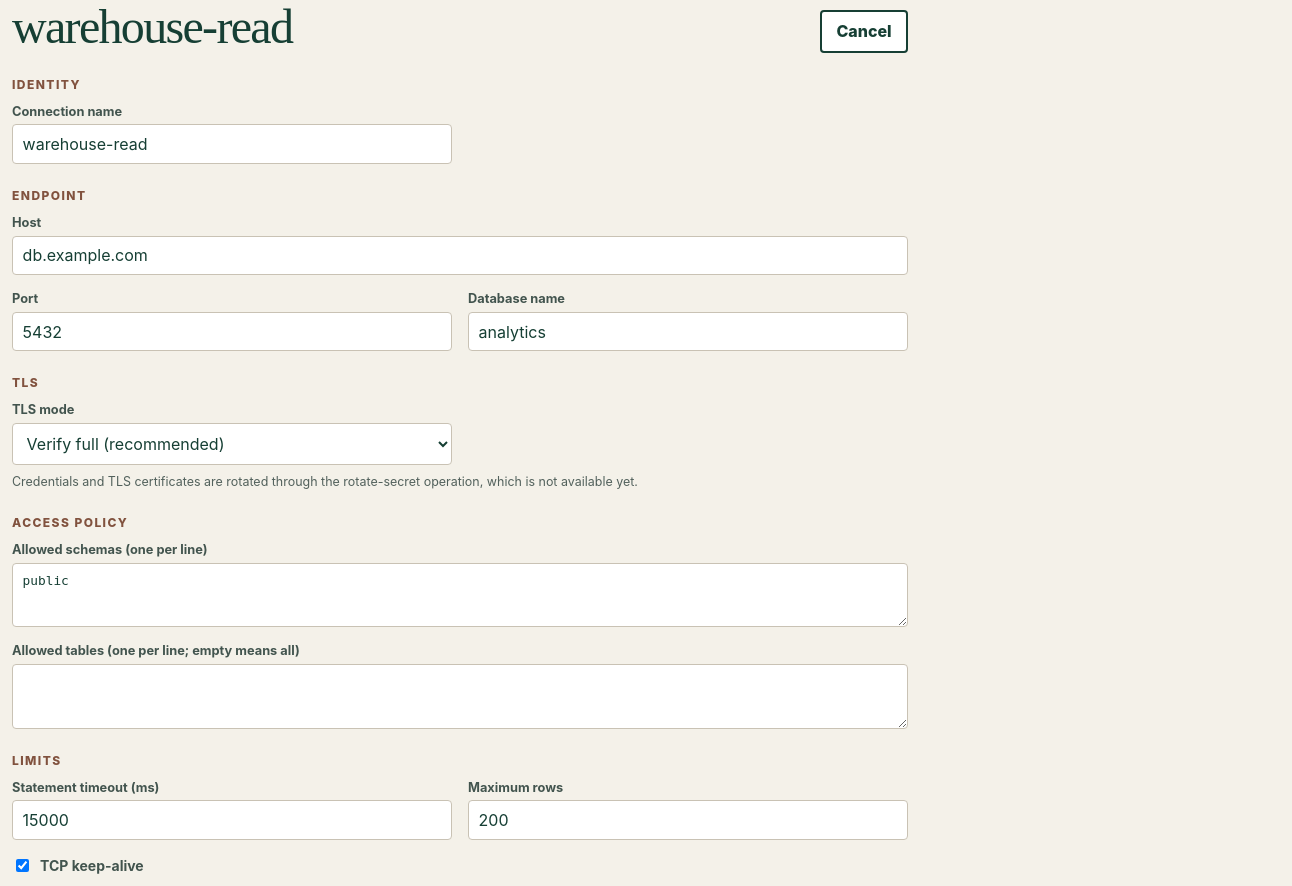
Test: ConnectionUpdateForm › shows a fatal message for a generic error
Step 1. Replace the text in the field labelled "Connection name" with "renamed" → (232, 144), box [12,124,452,164]
(page scrolled)
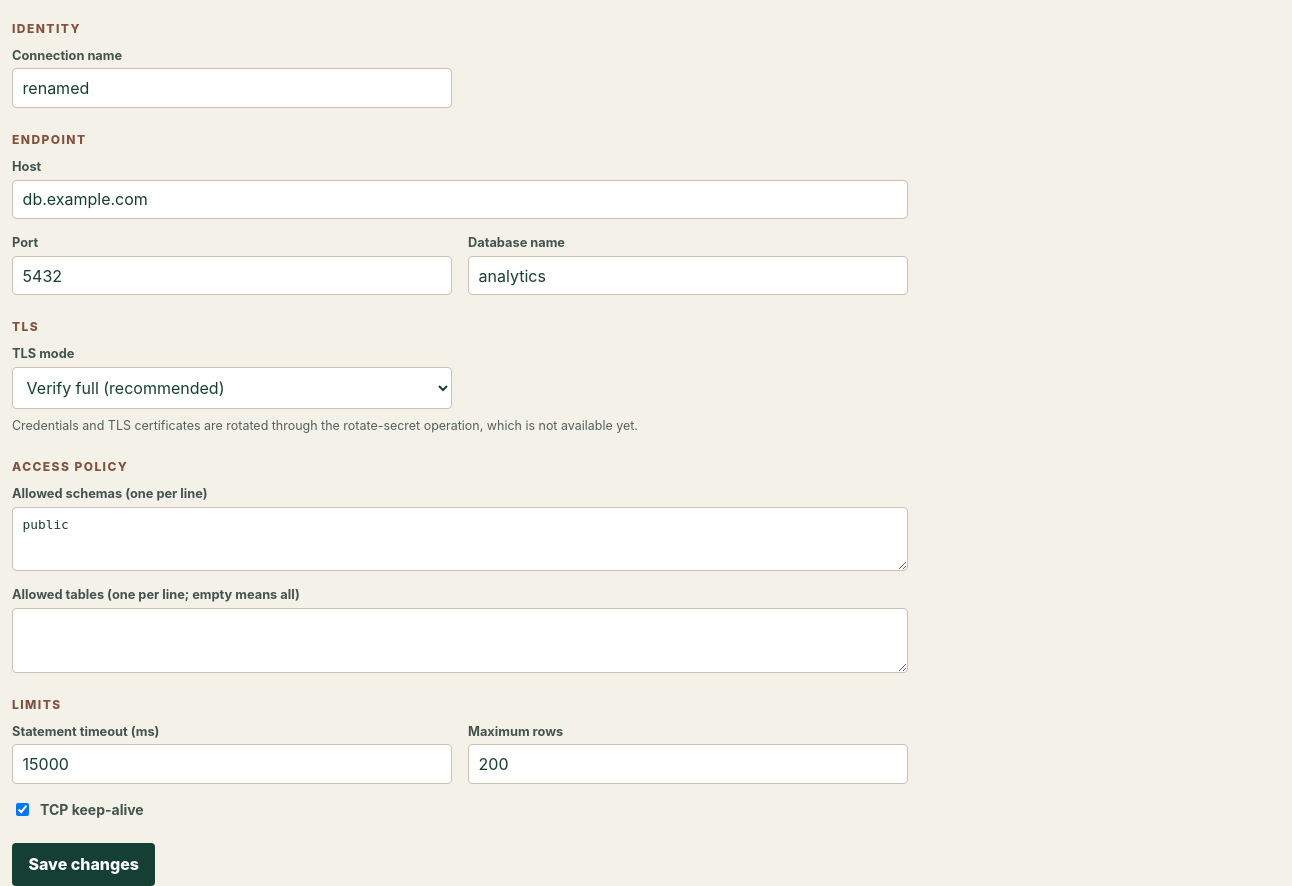
Step 2. Click the button "Save changes" → (84, 864), box [12,843,155,885]
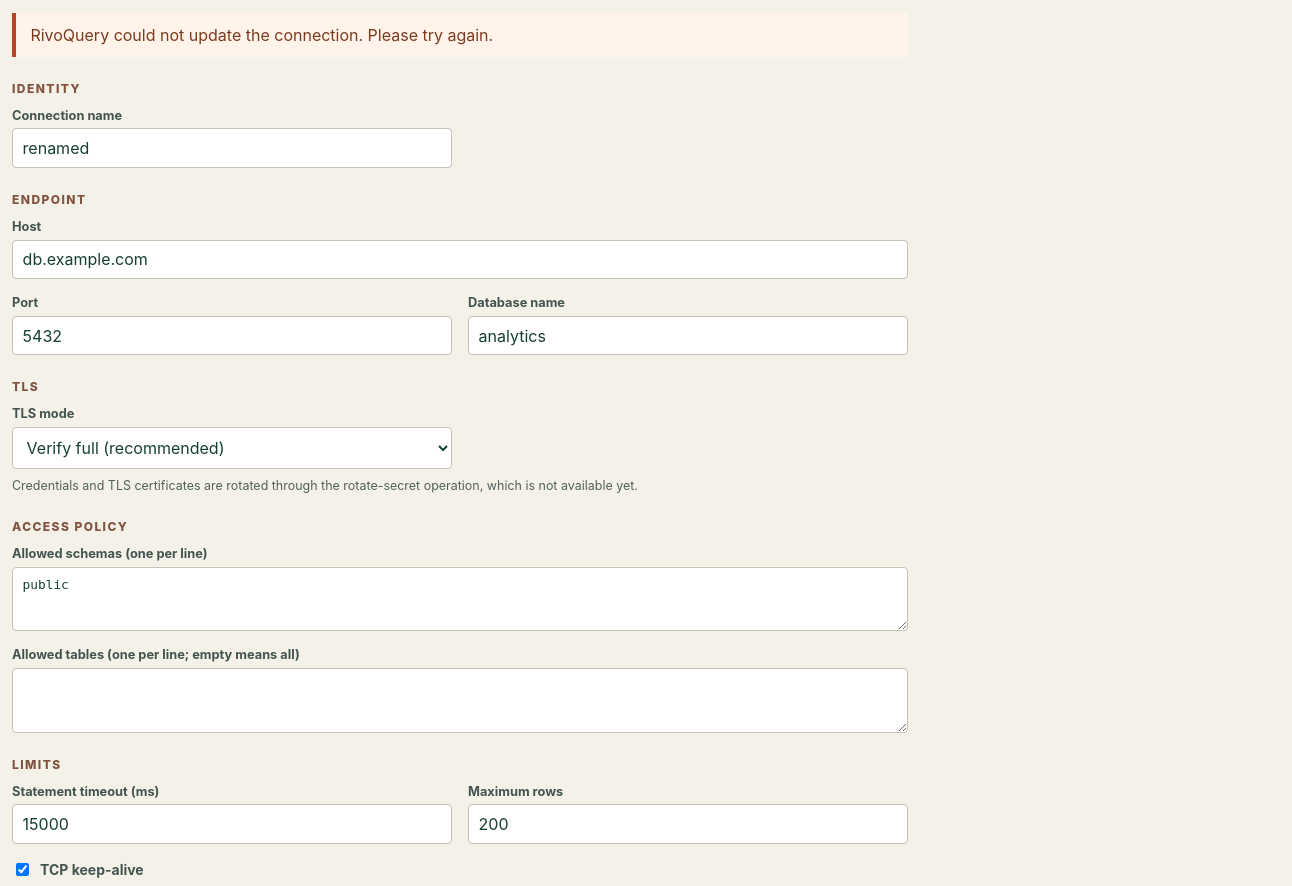
Expected: the message shows "RivoQuery could not update the connection.", [30,25,493,45]
